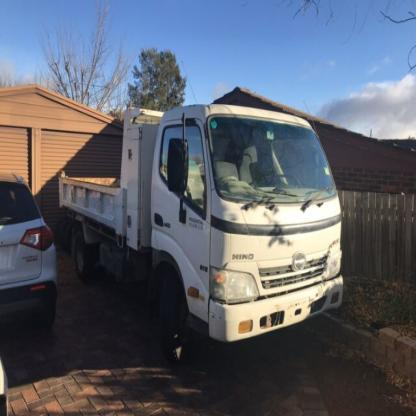dump_truck: (56, 79, 344, 371)
